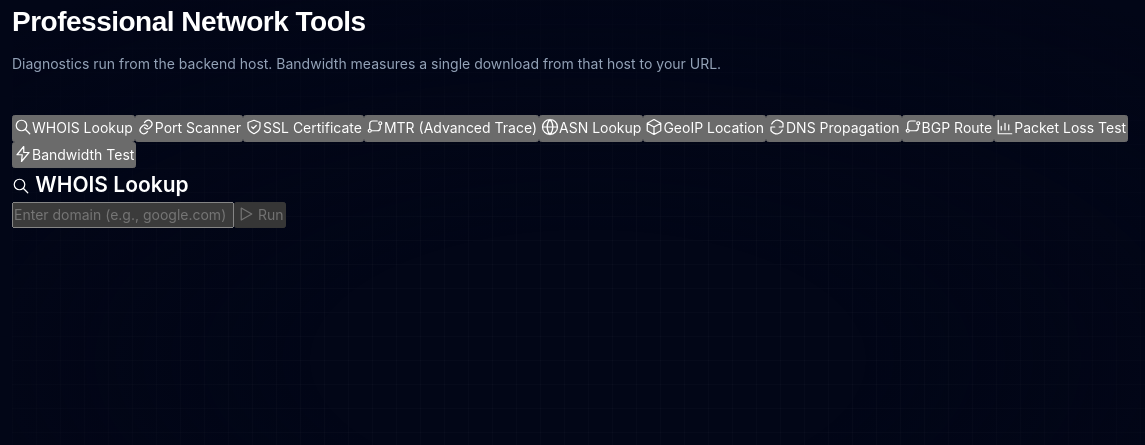
Test: shows backend error and allows retry
Type "example.com" into the field with placeholder "Enter domain (e.g., google.com)" at (123, 215), box [12,202,234,228]
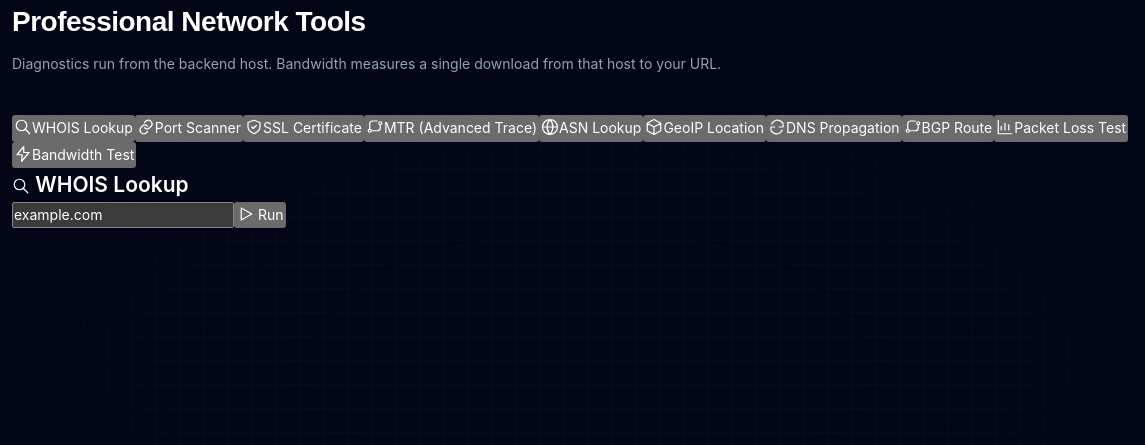
Click the button "Run" at (260, 215), box [234,202,286,228]
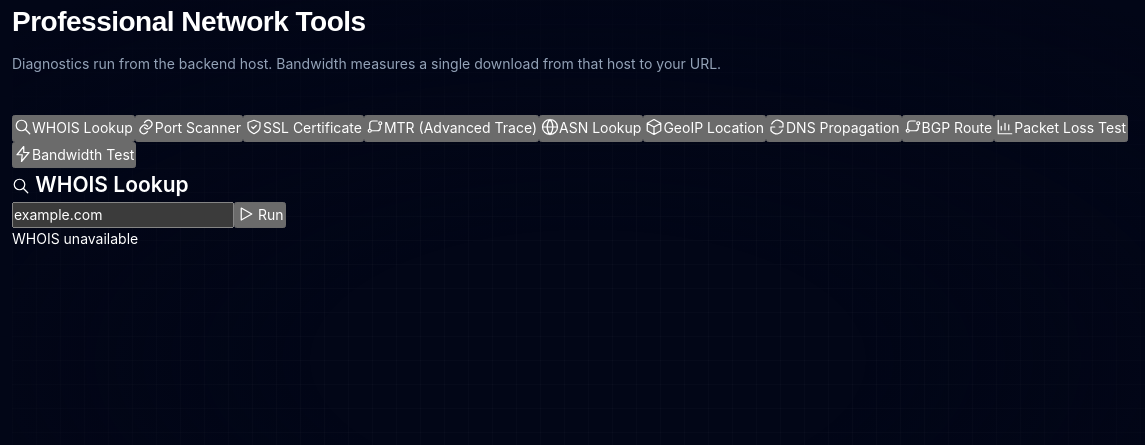
Expected: the message reads "WHOIS unavailable", [12,230,138,247]
Click the button "Run" at (260, 215), box [234,202,286,228]
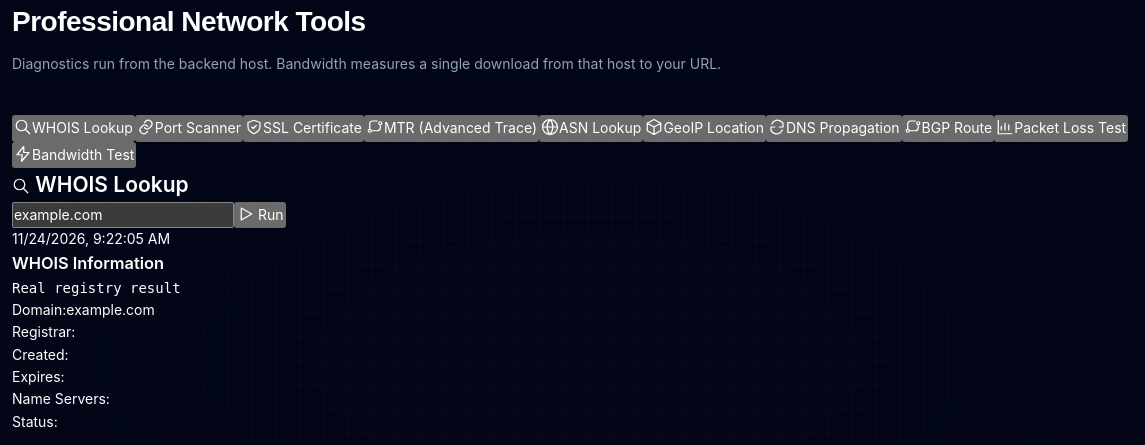
Expected: the text "Real registry result" is shown, [12,280,181,296]
Expected: the message "WHOIS unavailable" is gone
